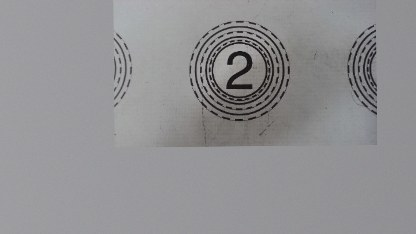2r: (185, 17, 291, 124)
